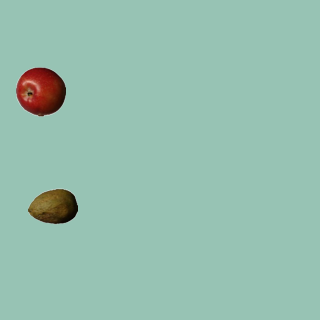Apple Braeburn: (15, 66, 65, 116)
Papaya: (27, 181, 77, 231)
